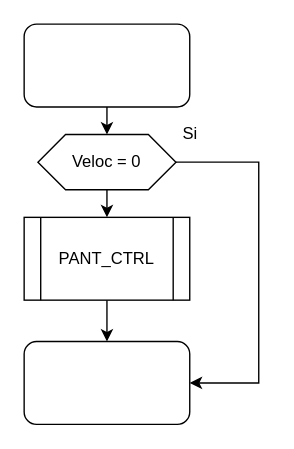
This 294x449 diagram has some shape labels left out. The shapes that lost their labels are listed below. From the top down, each one's centre as x and y in pixels, then its label:
[106,65]: COMPETENCIA
[106,382]: Retornar
